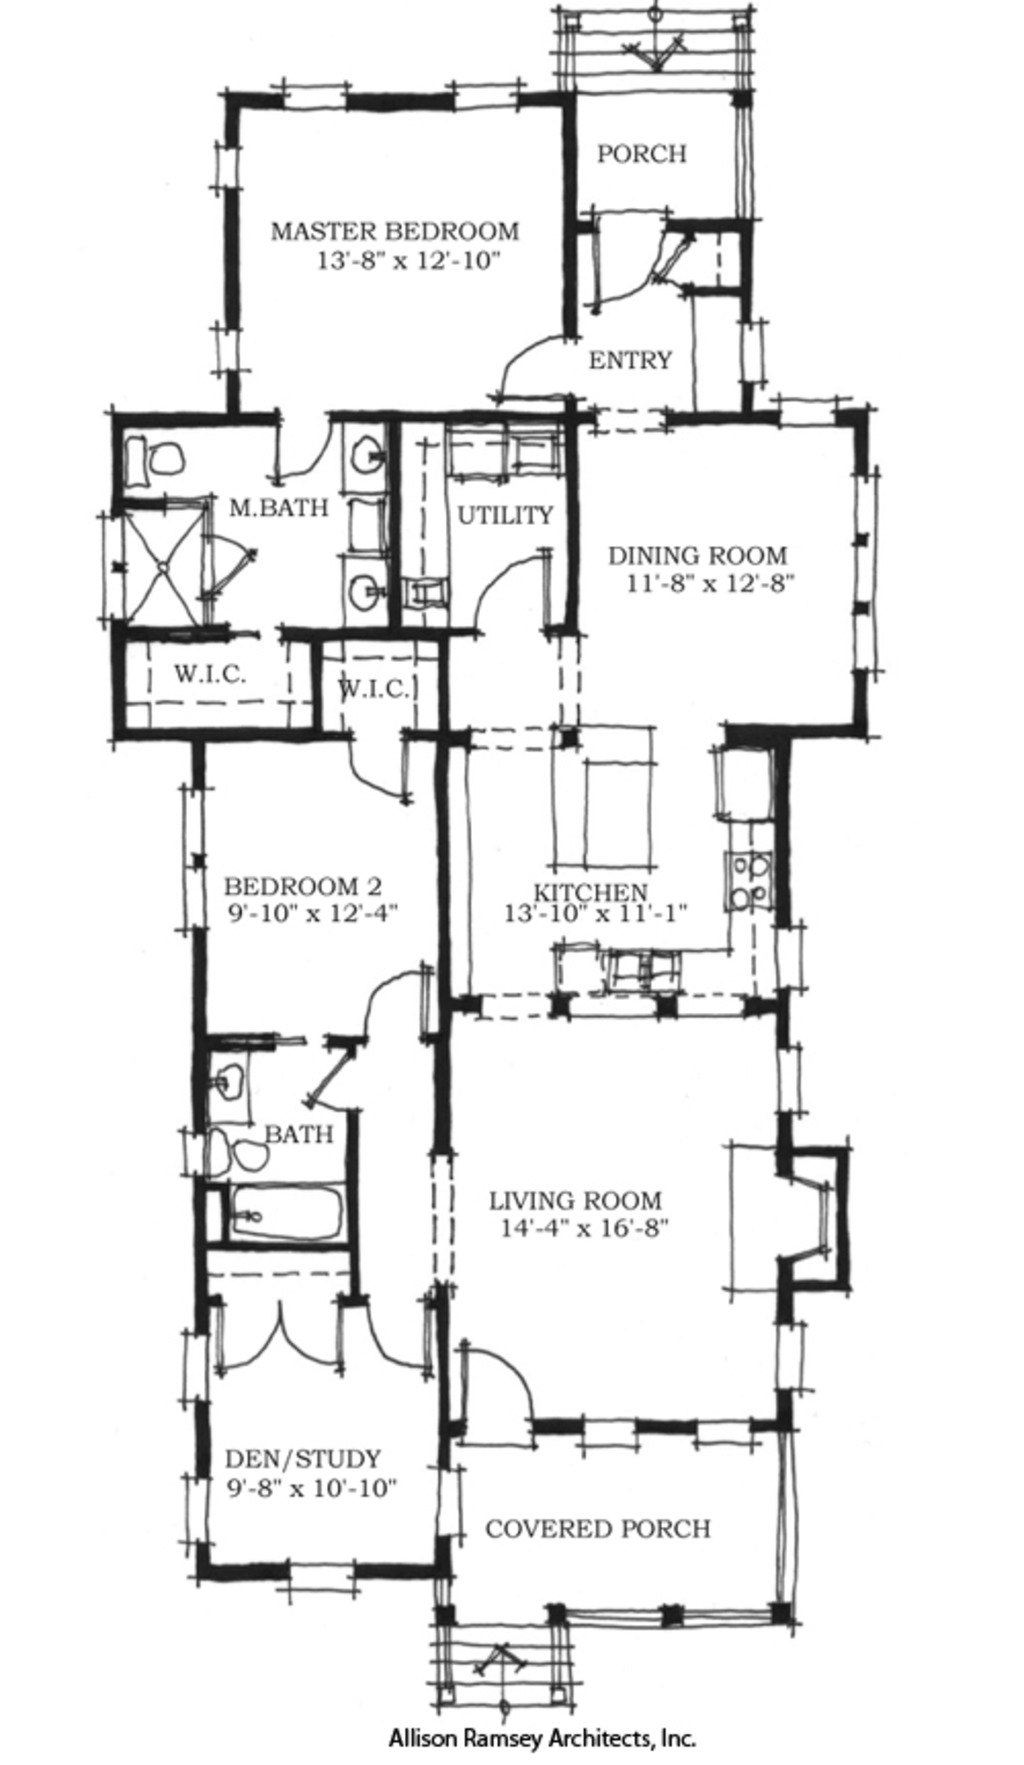door: (212, 1296, 357, 1379), (471, 552, 550, 639), (361, 965, 436, 1041), (343, 726, 408, 803), (271, 407, 332, 488)
stairs: (553, 5, 757, 105), (429, 1614, 571, 1722)
